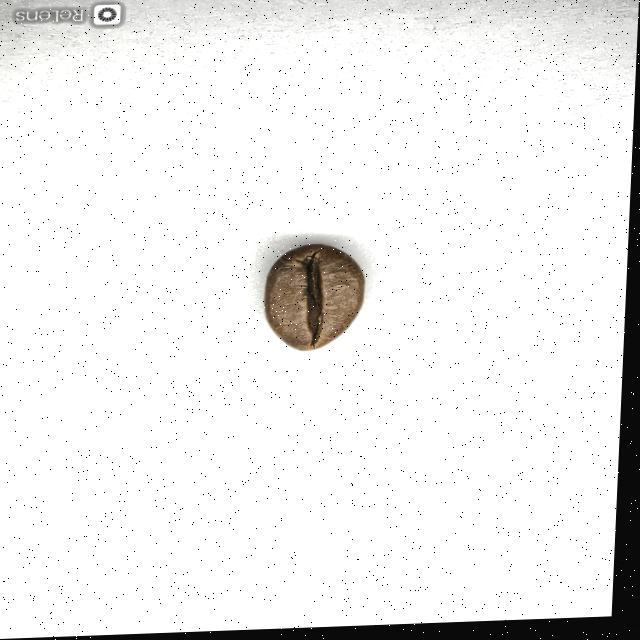Good bean: (264, 245, 371, 356)
